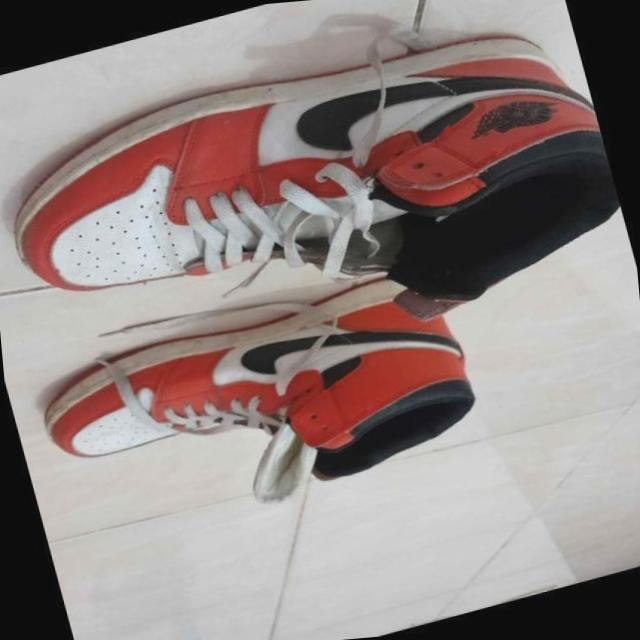nike_fake_jordan: (0, 0, 640, 422), (4, 241, 504, 564)
